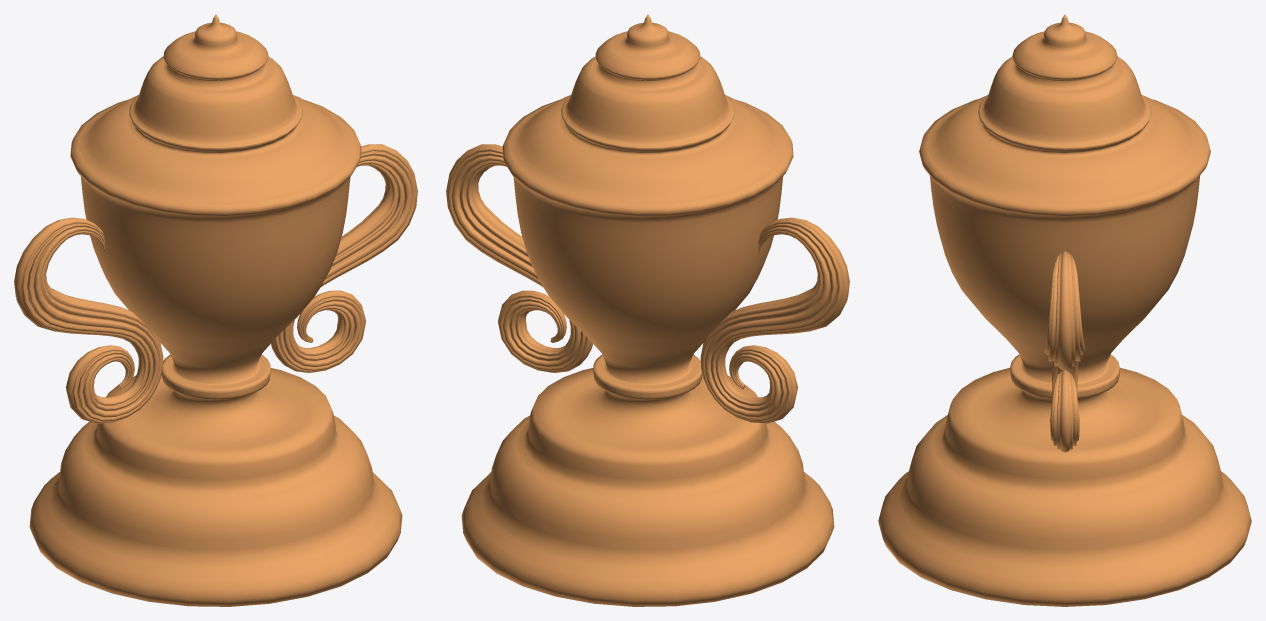
The model's file is trophy.glb.
3 views of the same model, side by side, from view 1: azimuth 30°, elevation 25°; view 2: azimuth 150°, elevation 25°; view 3: azimuth 270°, elevation 25° (orthographic).
Parts seen in each view (by area): view 1: BezierCurve.002_1, BezierCurve.003_3; view 2: BezierCurve.002_1, BezierCurve.003_3; view 3: BezierCurve.002_1, BezierCurve.003_3.
Part boxes in pixels (x1,y1,x2,y2): BezierCurve.002_1: (29,14,402,606); BezierCurve.003_3: (14,144,417,423); BezierCurve.002_1: (461,14,834,606); BezierCurve.003_3: (446,144,849,423); BezierCurve.002_1: (878,14,1251,606); BezierCurve.003_3: (1044,251,1085,452).
Size of the model in its own units: 4.88 by 6 by 3.94.
